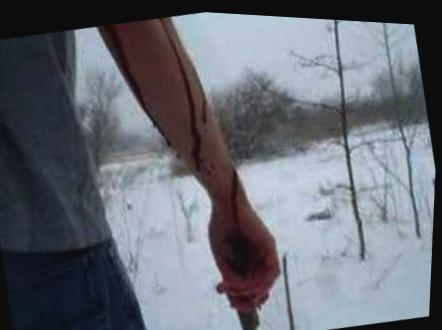Fire: (159, 15, 283, 330), (96, 23, 164, 134)
